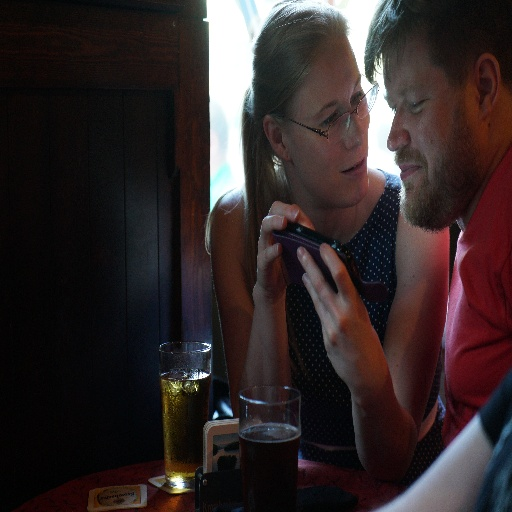hand: (295, 240, 385, 394), (251, 189, 309, 270)
